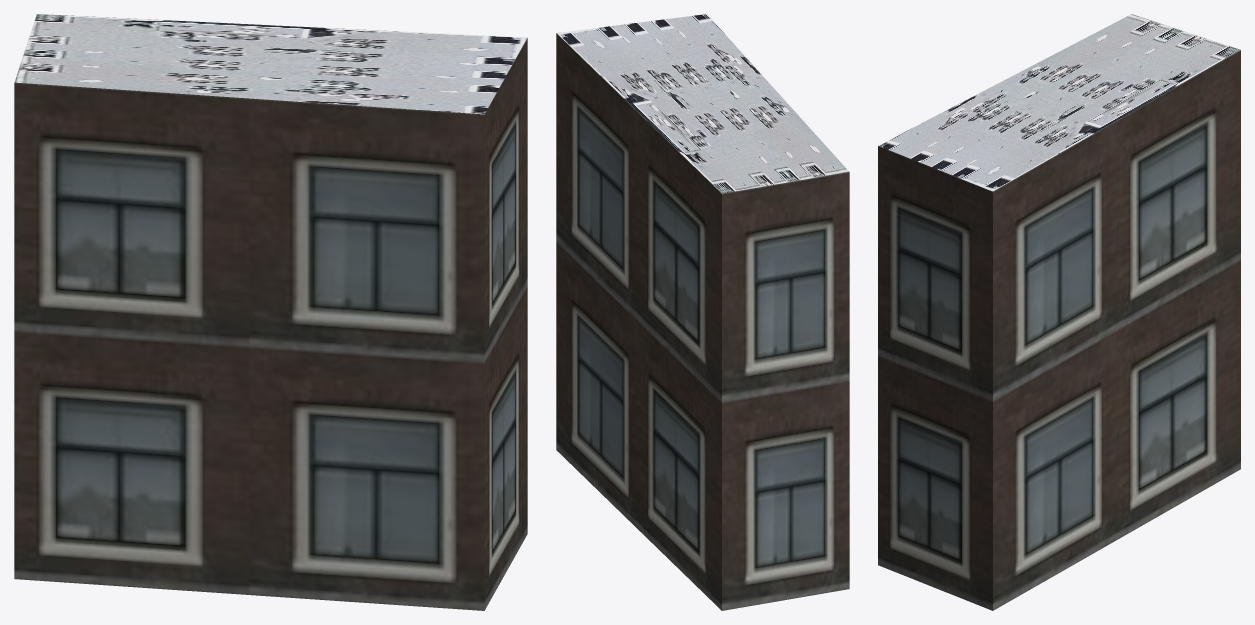
Rendered from ResTex__343.fbx.
3 views of the same model, side by side, from view 1: azimuth 30°, elevation 25°; view 2: azimuth 150°, elevation 25°; view 3: azimuth 270°, elevation 25° (orthographic). The views are drawn at different scales.
Visible parts, largest first — view 1: CityEngineMaterial_16_m, CityEngineMaterial_15_m; view 2: CityEngineMaterial_16_m, CityEngineMaterial_15_m; view 3: CityEngineMaterial_16_m, CityEngineMaterial_15_m.
Part boxes in pixels (bbox=[...]): CityEngineMaterial_16_m: bbox=[14, 38, 527, 610]; CityEngineMaterial_15_m: bbox=[14, 14, 526, 114]; CityEngineMaterial_16_m: bbox=[556, 33, 849, 610]; CityEngineMaterial_15_m: bbox=[557, 14, 848, 193]; CityEngineMaterial_16_m: bbox=[878, 50, 1240, 610]; CityEngineMaterial_15_m: bbox=[878, 14, 1240, 191].
Size of the model in its own units: 5.45 by 6 by 4.71.
Materials: 2 (2 with a texture image).
